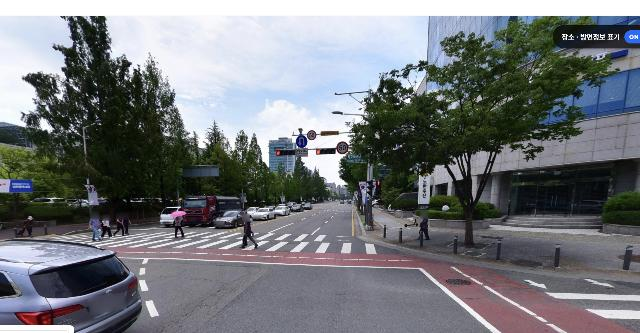other: (342, 16, 622, 246), (20, 16, 180, 214), (0, 146, 54, 201), (200, 118, 229, 198), (231, 129, 251, 206), (249, 133, 268, 204), (273, 153, 291, 205), (292, 156, 305, 203), (305, 165, 318, 202)
